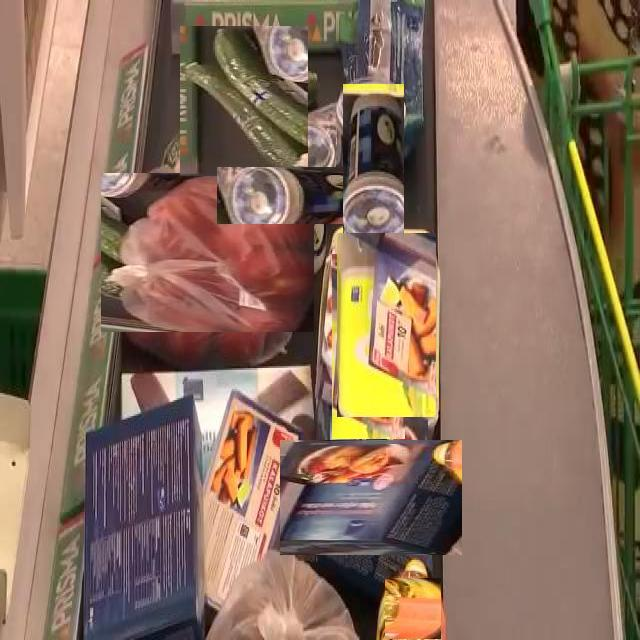beverage: (381, 580, 443, 640)
food-box: (85, 426, 205, 640), (297, 423, 446, 571), (192, 434, 310, 596), (336, 232, 436, 417), (331, 253, 405, 439), (246, 138, 360, 253), (342, 83, 404, 239)
vegetable: (115, 159, 302, 346), (175, 31, 314, 170)
